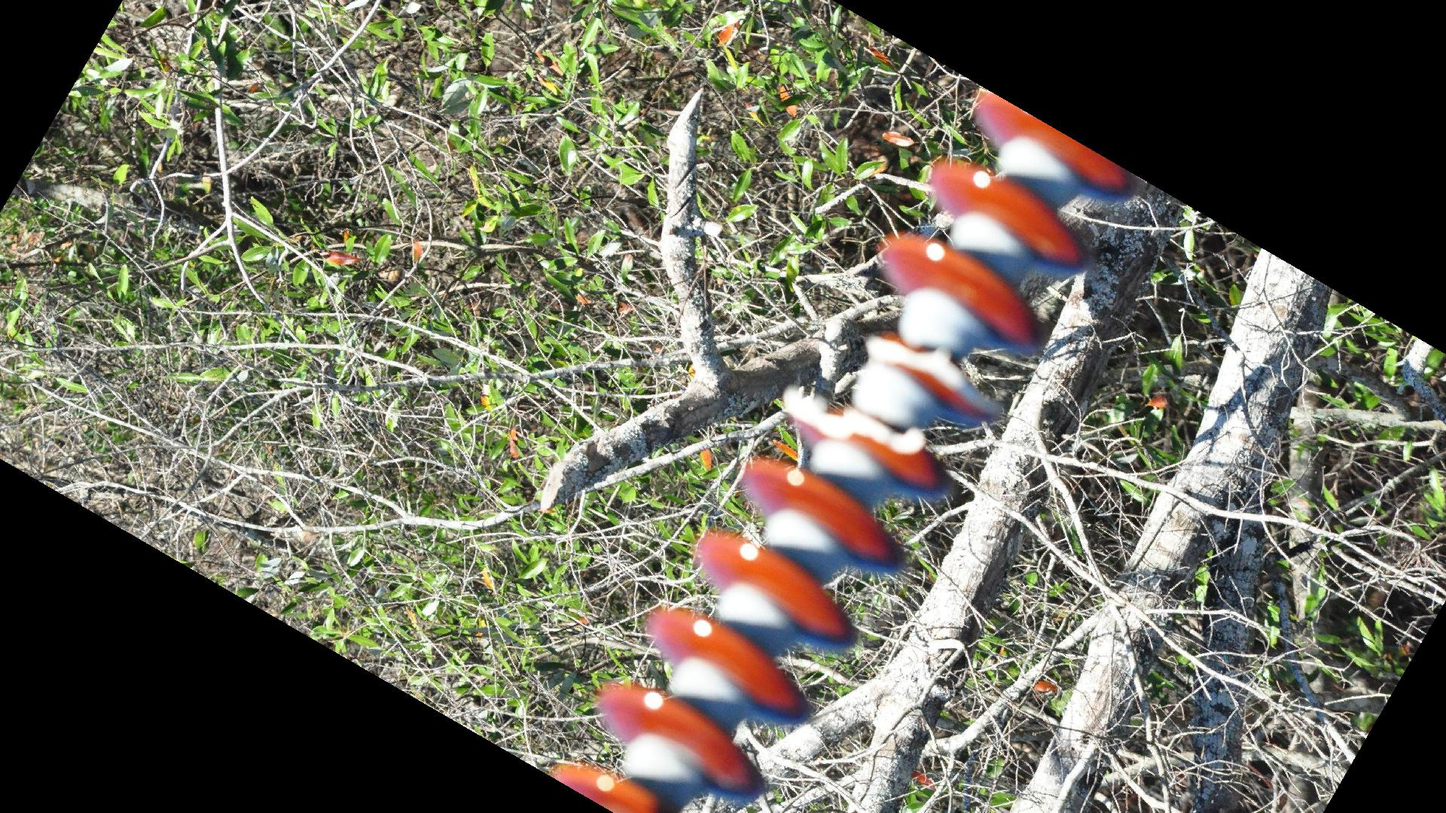insulator: (549, 75, 1149, 813)
insulator_breakage: (853, 325, 1011, 431), (771, 384, 930, 464)
